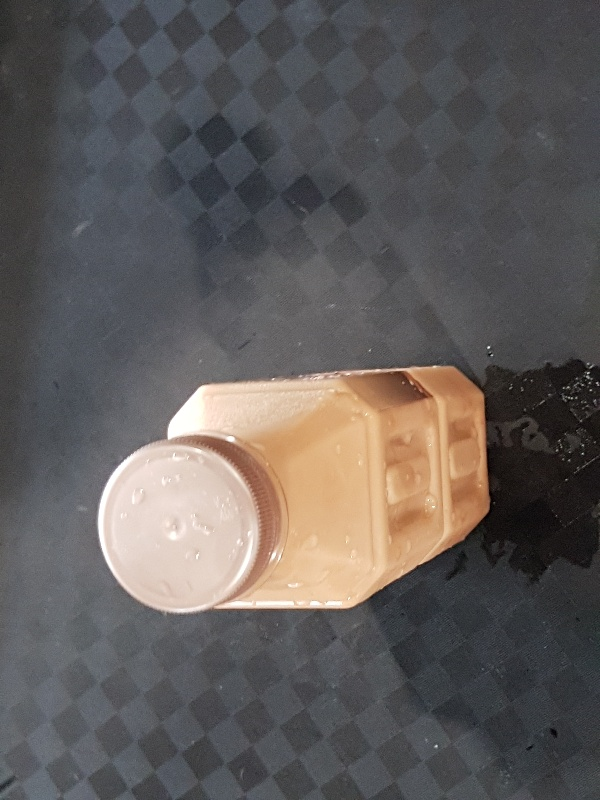Mocha: (94, 364, 492, 616)
